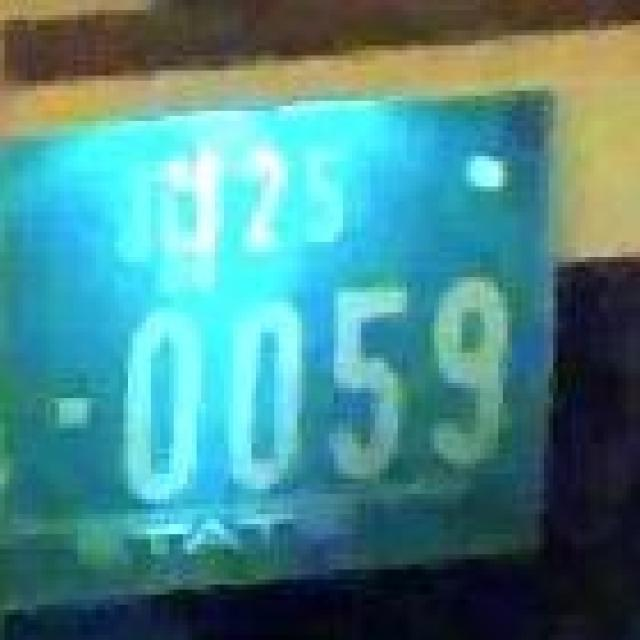State: (133, 136, 224, 294)
